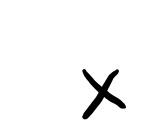mult: (80, 67, 128, 116)
